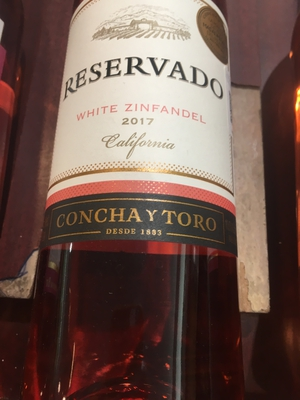reservado white zinfandel: (53, 3, 237, 400)
